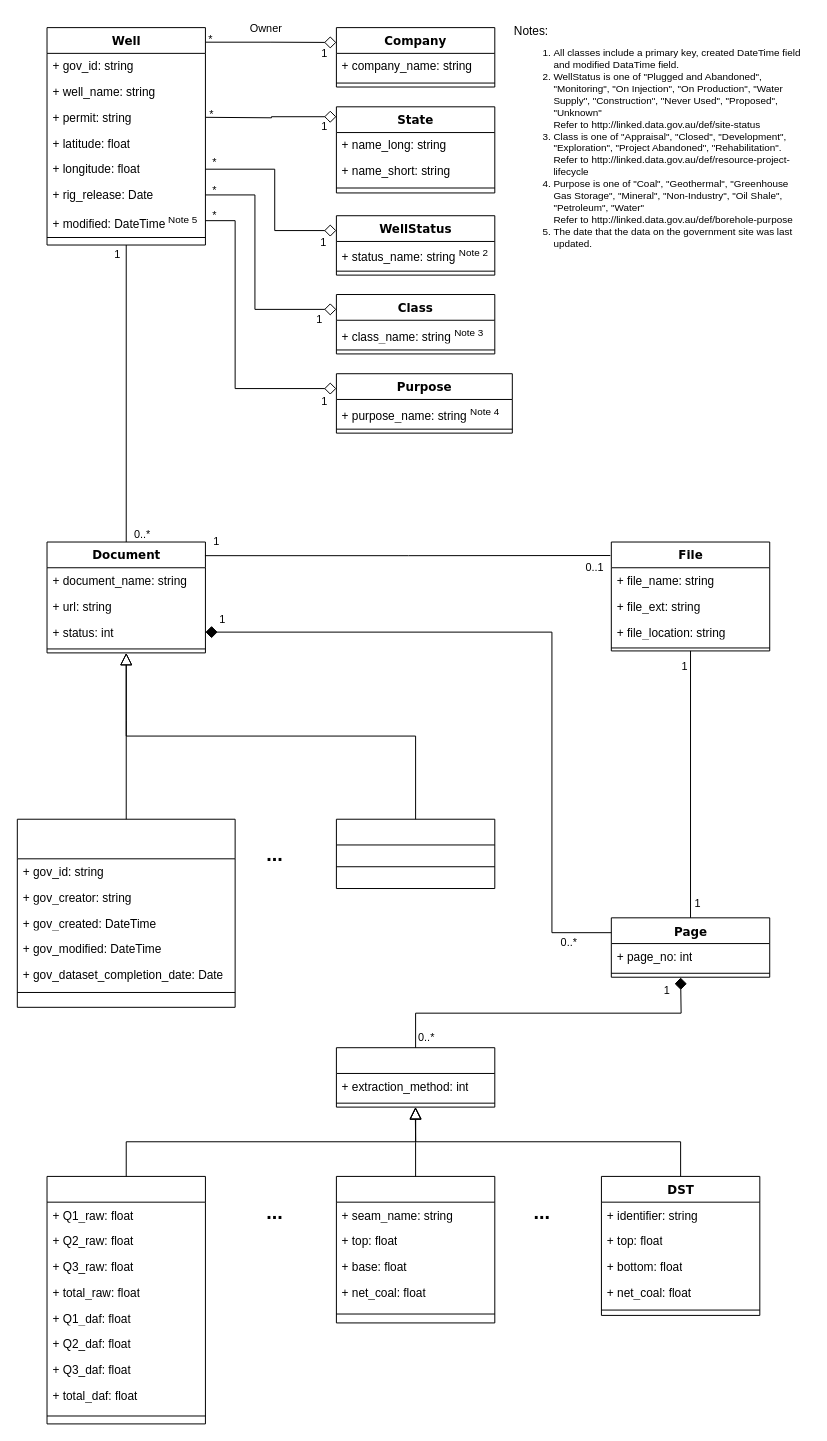
This 827x1441 diagram has some shape labels left out. Each missing label, with the box of its shape:
Coal Seam: (335, 1175, 495, 1323)
Data: (335, 1047, 495, 1107)
LAS: (335, 818, 495, 889)
Permiability: (46, 1175, 205, 1424)
WCR (Well Completion Report): (16, 818, 235, 1007)
